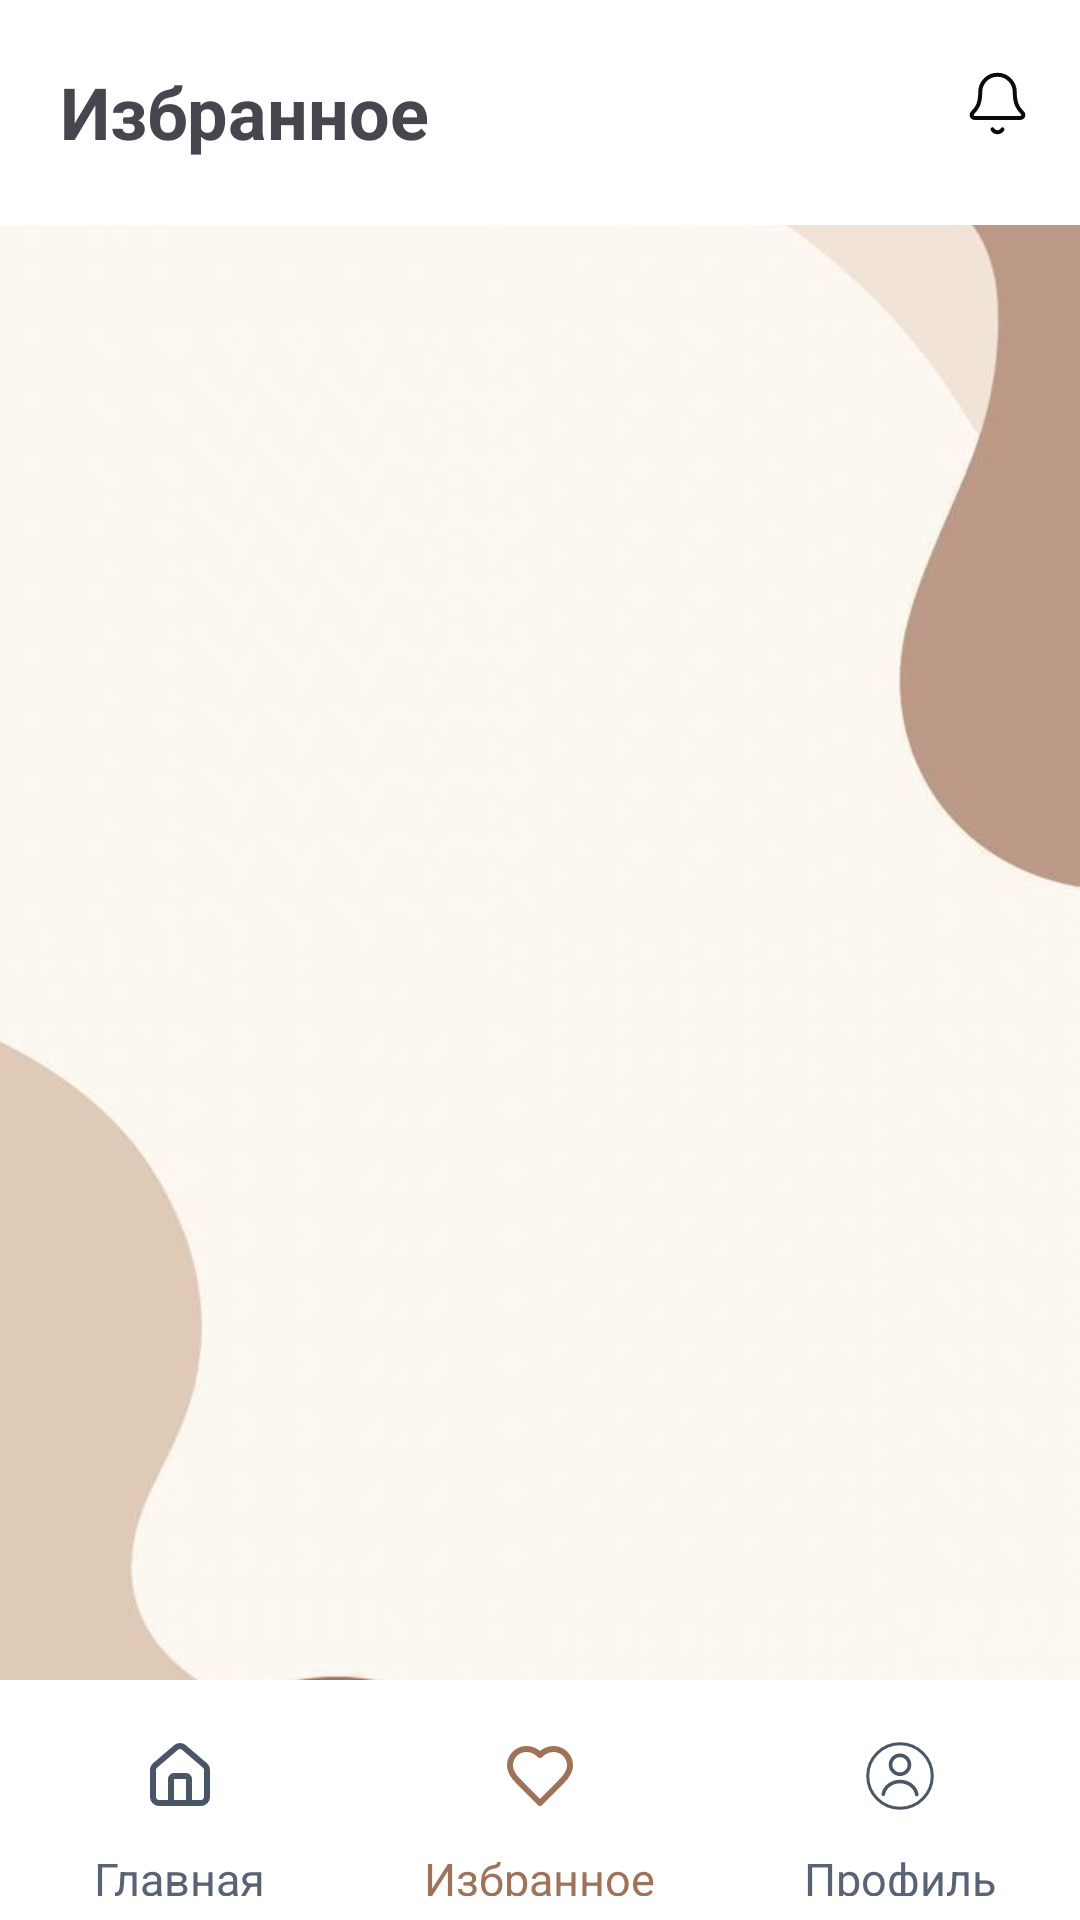

Icons on this 1080 × 1920 Android screen, each with its box as detection(x1, y1, x2, y2):
favoriteltc: detection(507, 1746, 573, 1806)
homelt: detection(150, 1743, 210, 1806)
notificationlt: detection(969, 72, 1026, 135)
profilelt: detection(866, 1742, 934, 1810)
